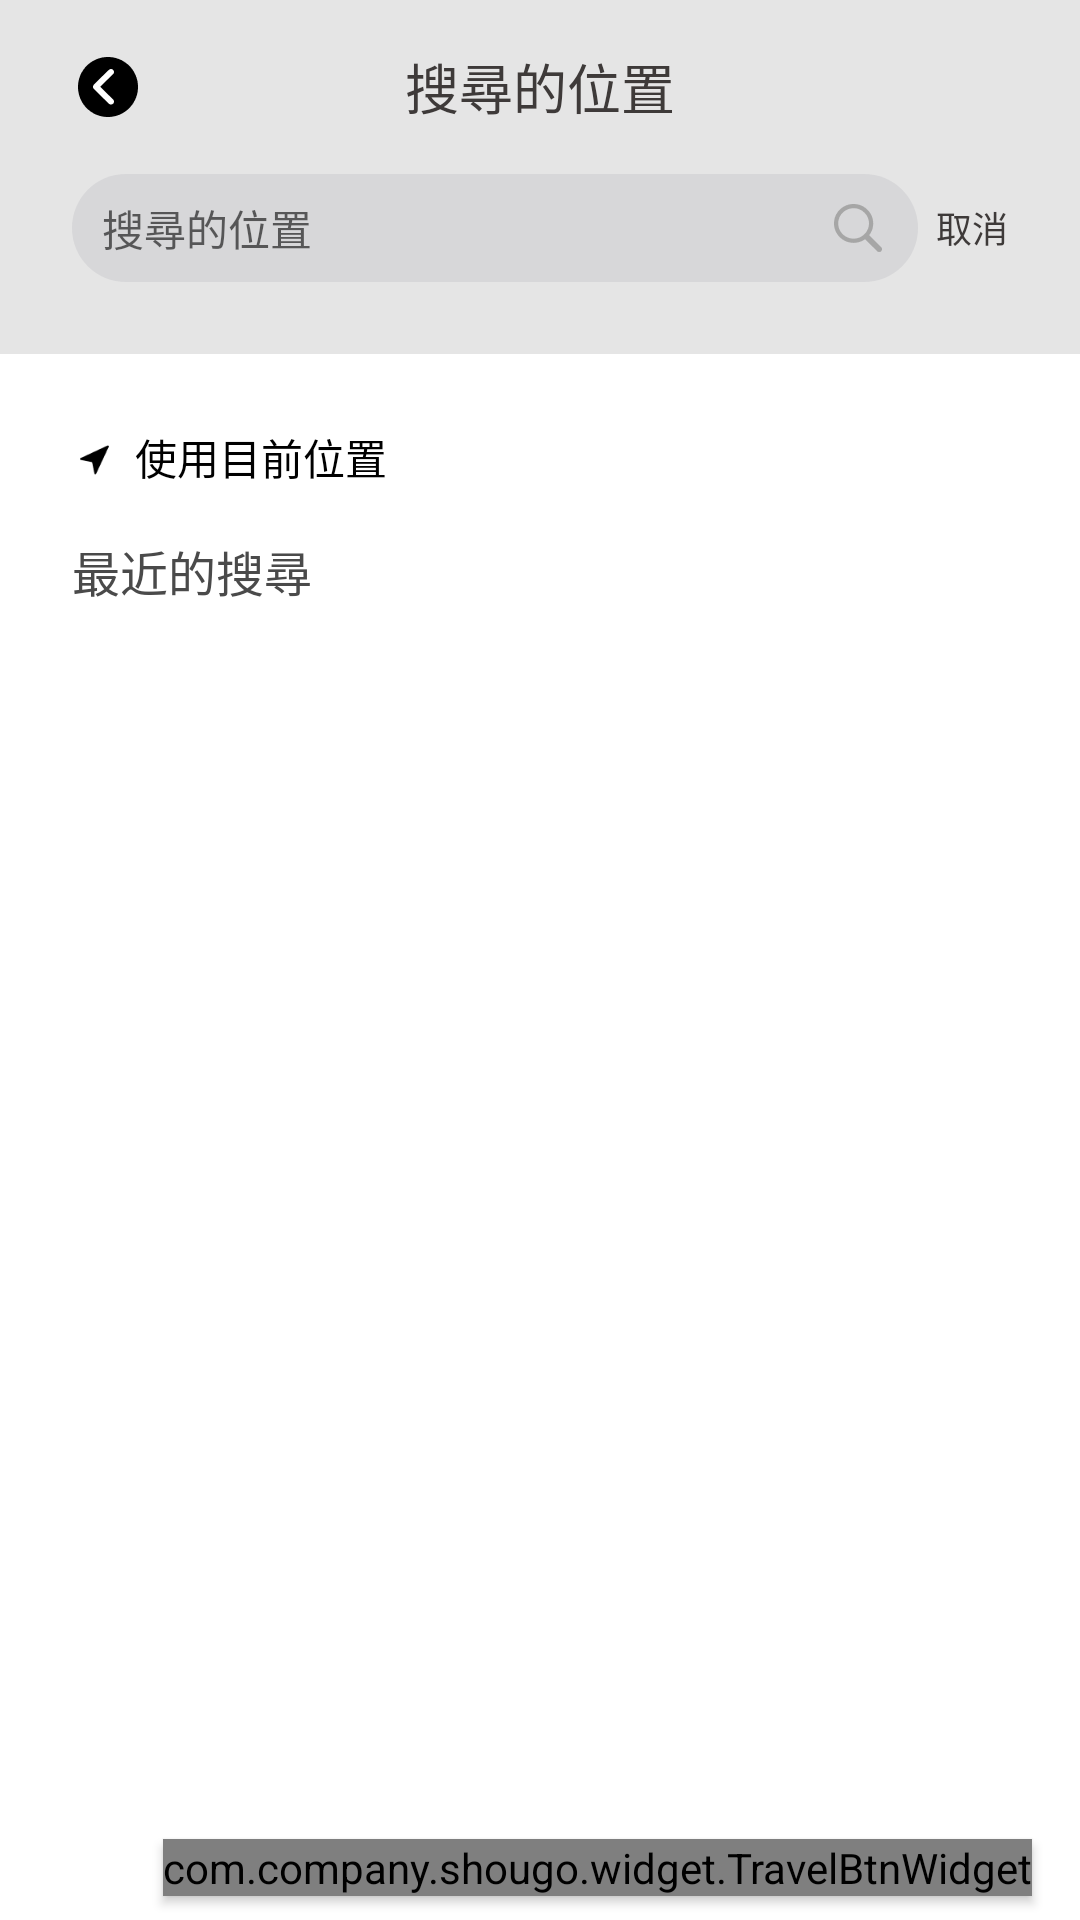

Icons on this 1080×1920 Android screen, each with the point to tap as (x,y):
back: (108,87)
search: (858,228)
